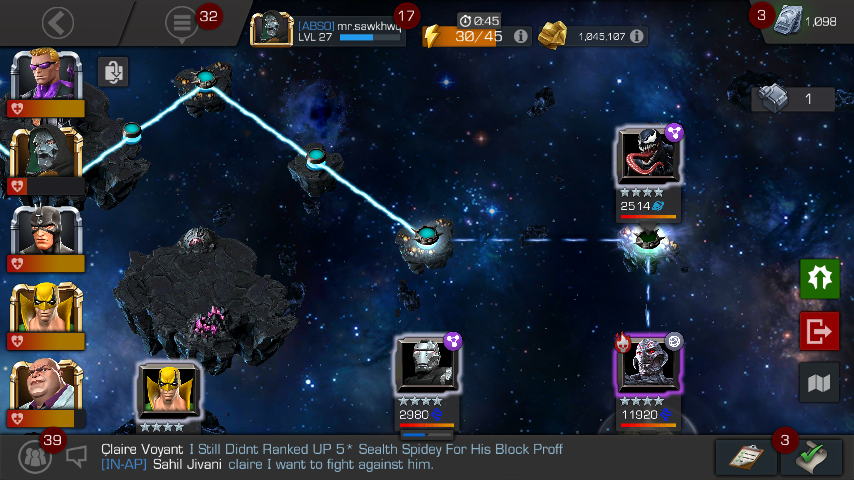green: (637, 230, 660, 249)
